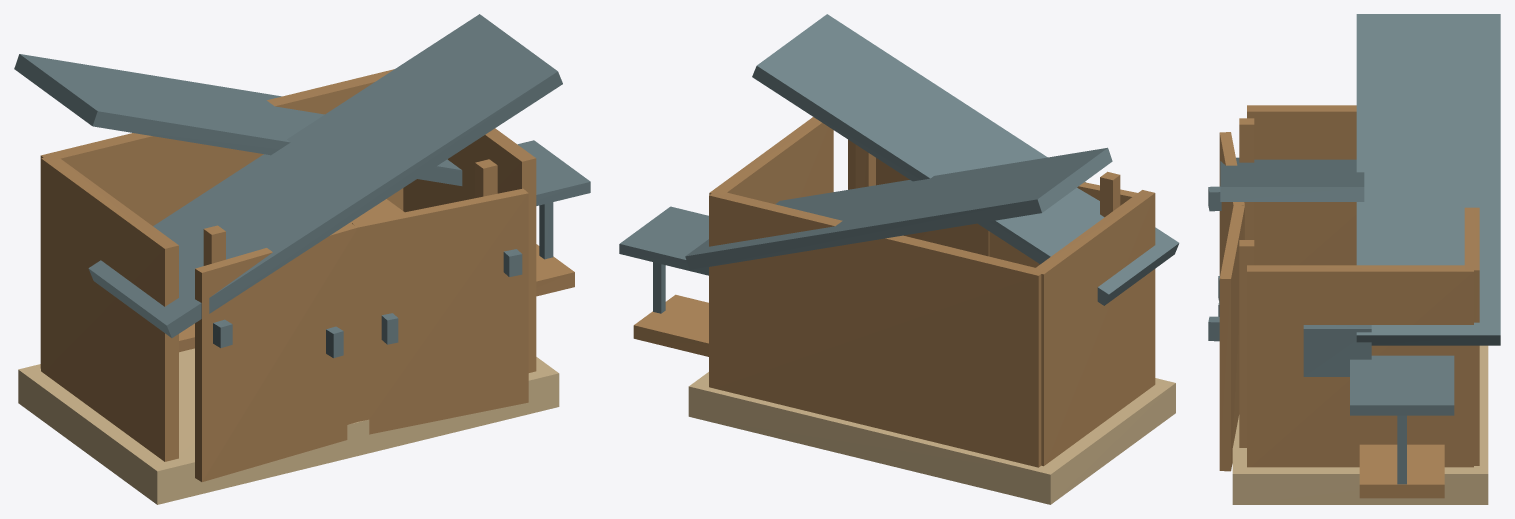
File: Storage-Shed.glb
3 views of the same model, side by side, from view 1: azimuth 30°, elevation 25°; view 2: azimuth 150°, elevation 25°; view 3: azimuth 270°, elevation 25° (orthographic). The views are drawn at different scales.
Visible parts, largest first — view 1: wind-pump-static-storage-shed-timber, wind-pump-static-storage-shed-galvanized-roof, wind-pump-static-storage-shed-stone-curb, wind-pump-static-storage-shed-iron, wind-pump-static-storage-shed-interior-shelf; view 2: wind-pump-static-storage-shed-timber, wind-pump-static-storage-shed-galvanized-roof, wind-pump-static-storage-shed-stone-curb, wind-pump-static-storage-shed-interior-shelf, wind-pump-static-storage-shed-iron; view 3: wind-pump-static-storage-shed-timber, wind-pump-static-storage-shed-galvanized-roof, wind-pump-static-storage-shed-stone-curb, wind-pump-static-storage-shed-iron, wind-pump-static-storage-shed-interior-shelf.
Part boxes in pixels (left/top/right/bottom): wind-pump-static-storage-shed-timber: left=40, top=69, right=536, bottom=481; wind-pump-static-storage-shed-galvanized-roof: left=14, top=14, right=590, bottom=337; wind-pump-static-storage-shed-stone-curb: left=18, top=348, right=559, bottom=504; wind-pump-static-storage-shed-iron: left=213, top=202, right=553, bottom=358; wind-pump-static-storage-shed-interior-shelf: left=179, top=199, right=574, bottom=352; wind-pump-static-storage-shed-timber: left=709, top=117, right=1155, bottom=467; wind-pump-static-storage-shed-galvanized-roof: left=619, top=14, right=1179, bottom=305; wind-pump-static-storage-shed-stone-curb: left=688, top=372, right=1175, bottom=504; wind-pump-static-storage-shed-interior-shelf: left=633, top=294, right=708, bottom=356; wind-pump-static-storage-shed-iron: left=653, top=262, right=665, bottom=313; wind-pump-static-storage-shed-timber: left=1219, top=105, right=1479, bottom=471; wind-pump-static-storage-shed-galvanized-roof: left=1220, top=14, right=1500, bottom=415; wind-pump-static-storage-shed-stone-curb: left=1232, top=345, right=1488, bottom=504; wind-pump-static-storage-shed-iron: left=1208, top=186, right=1406, bottom=484; wind-pump-static-storage-shed-interior-shelf: left=1359, top=444, right=1444, bottom=498.
Size of the model in its own units: 2.78 by 1.83 by 1.54.
